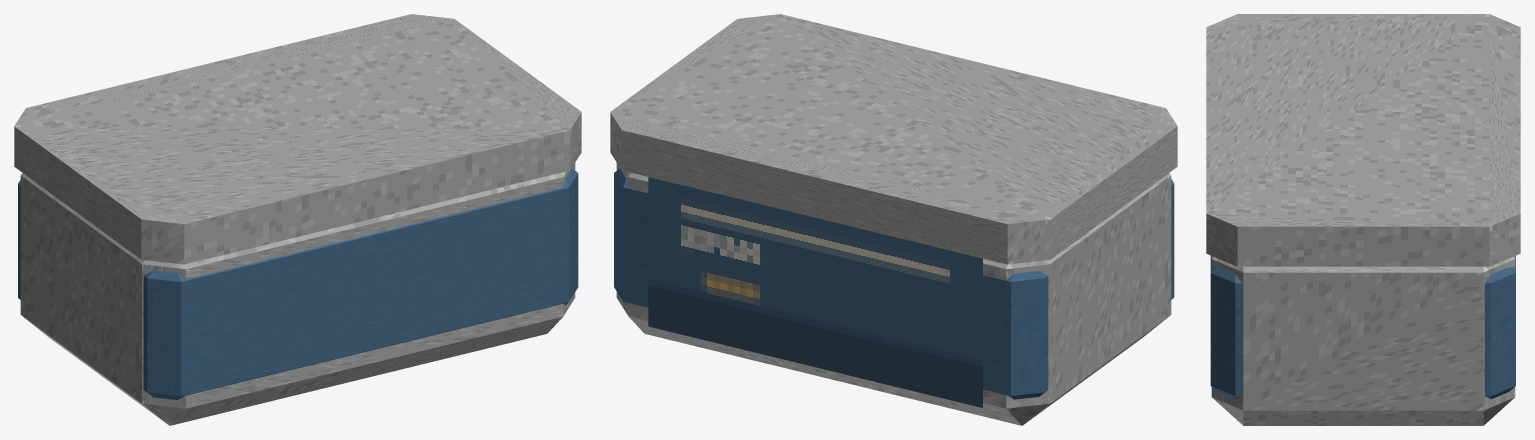
The model's file is can_spam.glb.
3 renders of one model, left to right at view 1: azimuth 30°, elevation 25°; view 2: azimuth 150°, elevation 25°; view 3: azimuth 270°, elevation 25°, orthographic.
Parts seen in each view (by area): view 1: block_beaded pull-top lid, block_printed wrapper, block_rounded shouldered tin; view 2: block_beaded pull-top lid, block_contents label, block_rounded shouldered tin, block_printed wrapper; view 3: block_beaded pull-top lid, block_rounded shouldered tin, block_printed wrapper.
Boxes of the visible parts, box(x1,y1,x2,y2) form: block_beaded pull-top lid: box(14, 14, 581, 264); block_printed wrapper: box(18, 168, 578, 399); block_rounded shouldered tin: box(20, 163, 575, 425); block_beaded pull-top lid: box(610, 14, 1177, 264); block_contents label: box(648, 177, 982, 407); block_rounded shouldered tin: box(616, 163, 1171, 425); block_printed wrapper: box(614, 168, 1174, 399); block_beaded pull-top lid: box(1206, 14, 1520, 266); block_rounded shouldered tin: box(1211, 256, 1515, 425); block_printed wrapper: box(1210, 255, 1515, 399).
Size of the model in its own units: 0.0833 by 0.0391 by 0.052.
Materials: 1 (1 with a texture image).
